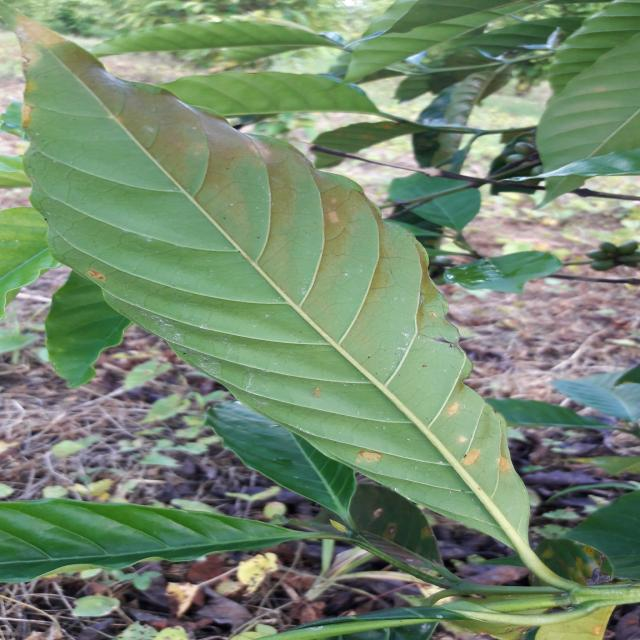Enfermedad-Roya: (14, 16, 571, 591)
